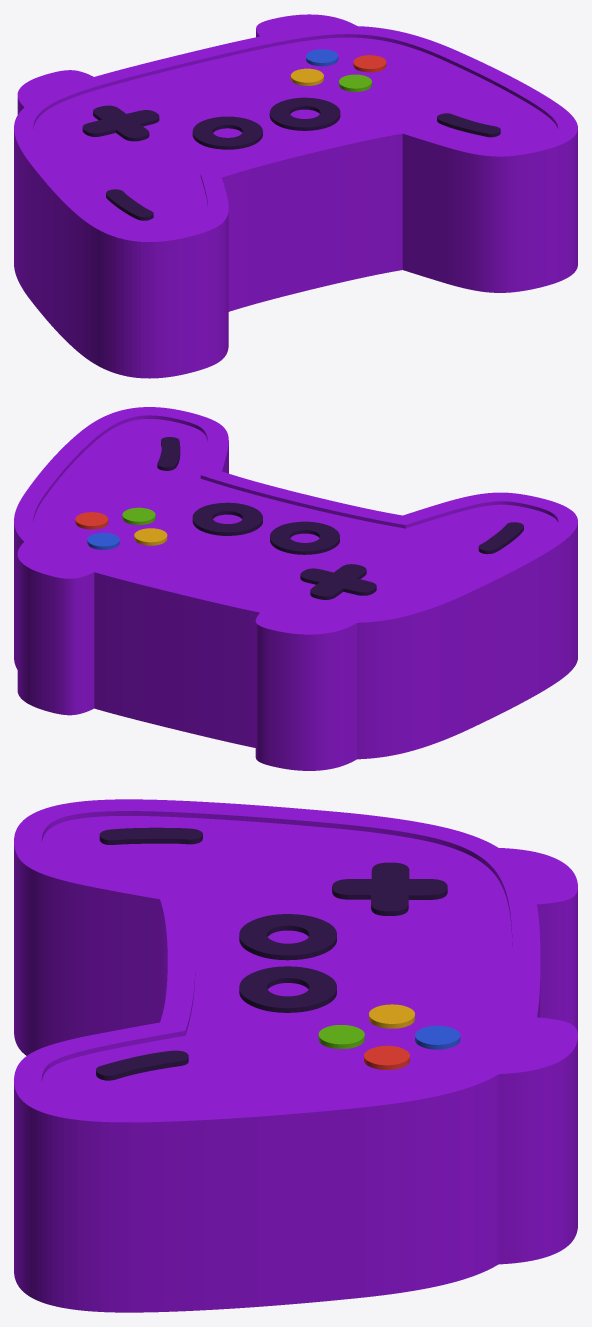
Rendered from game.glb.
The picture shows the model from 3 angles, top to bottom: view 1: azimuth 30°, elevation 25°; view 2: azimuth 150°, elevation 25°; view 3: azimuth 270°, elevation 25°; orthographic projection. The views are drawn at different scales.
Parts seen in each view (by area): view 1: Text; view 2: Text; view 3: Text.
Boxes of the visible parts, <box> form: Text: <box>14,14,577,378</box>; Text: <box>14,407,577,770</box>; Text: <box>14,799,577,1312</box>.
Size of the model in its own units: 1.08 by 0.2962 by 0.796.
